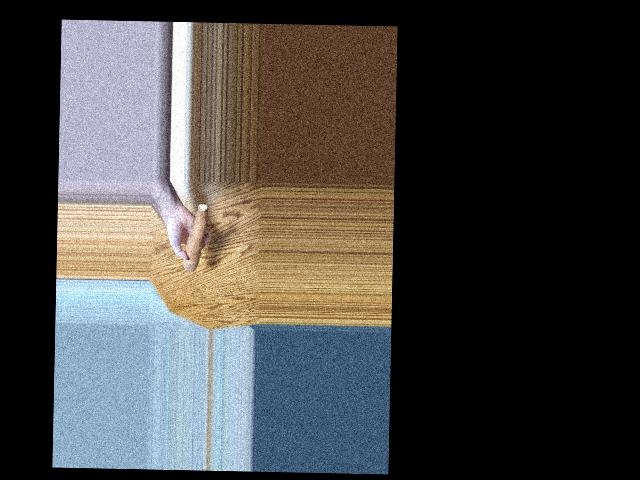sweet_potato: (187, 200, 206, 276)
